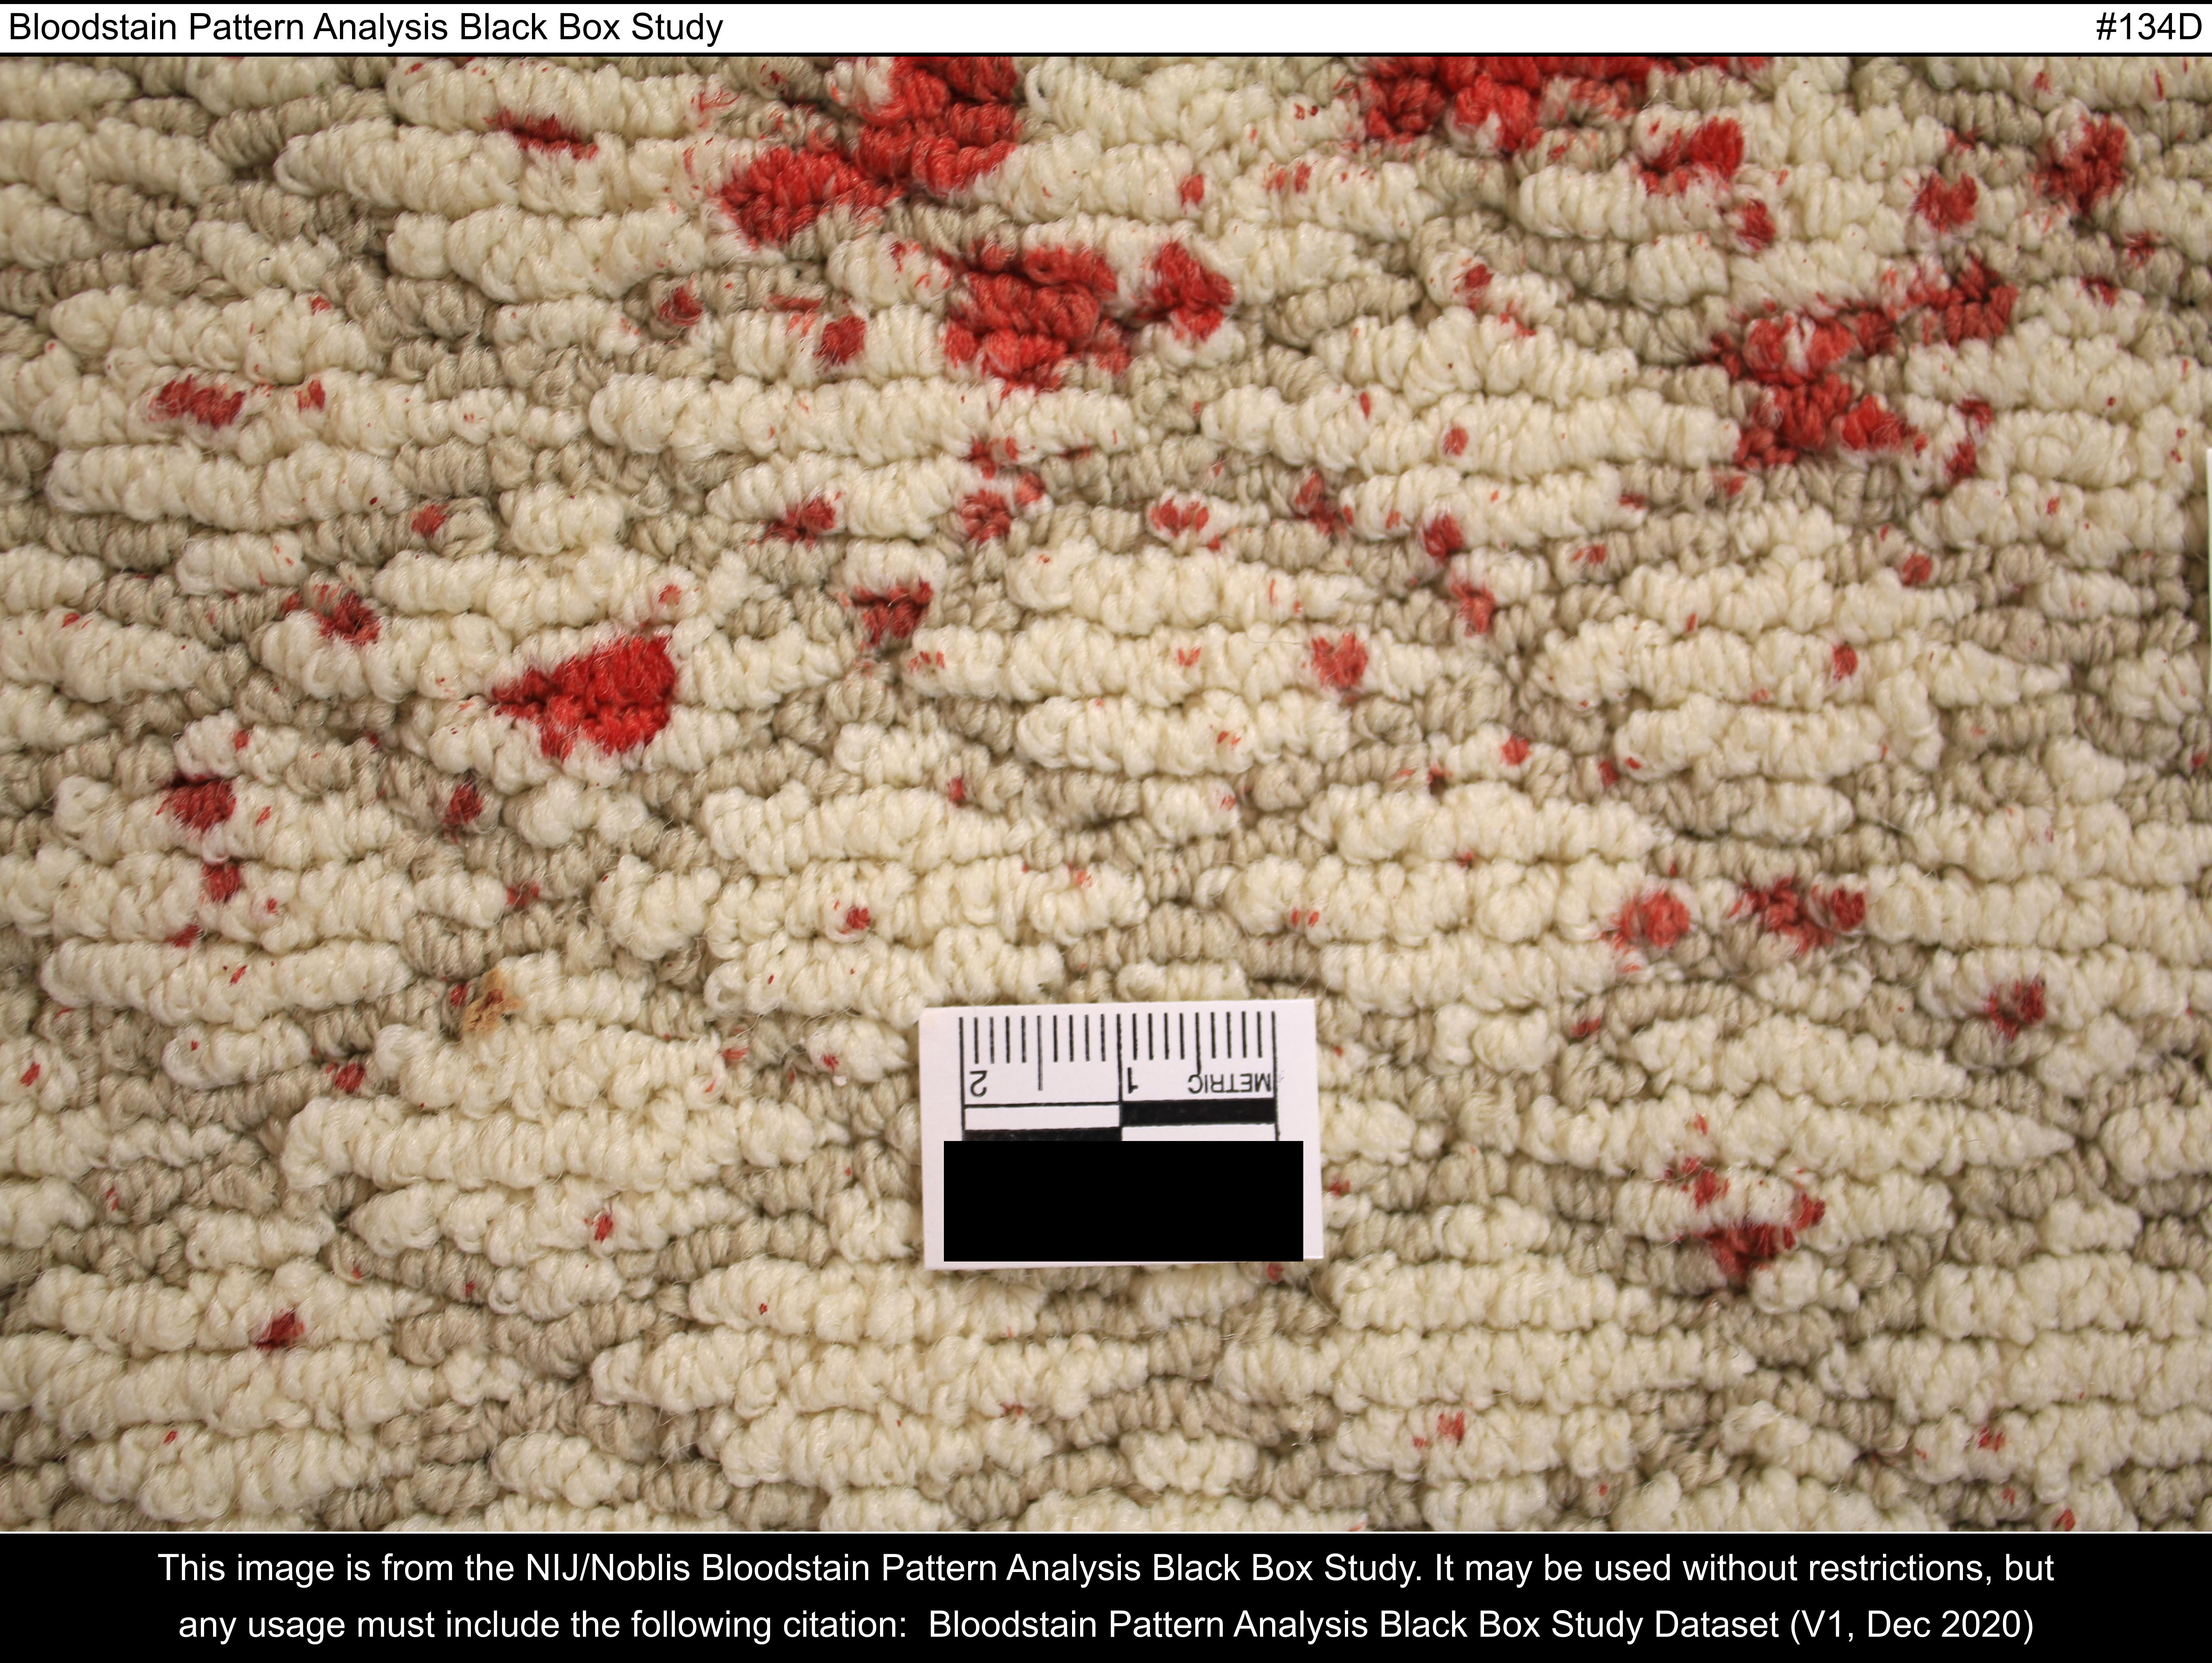Impact: (0, 54, 2184, 964), (1618, 966, 2182, 1284)
